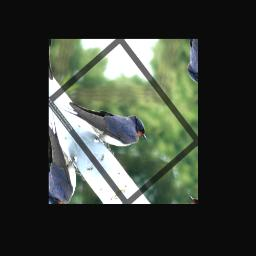Swallow: (52, 64, 152, 176)
